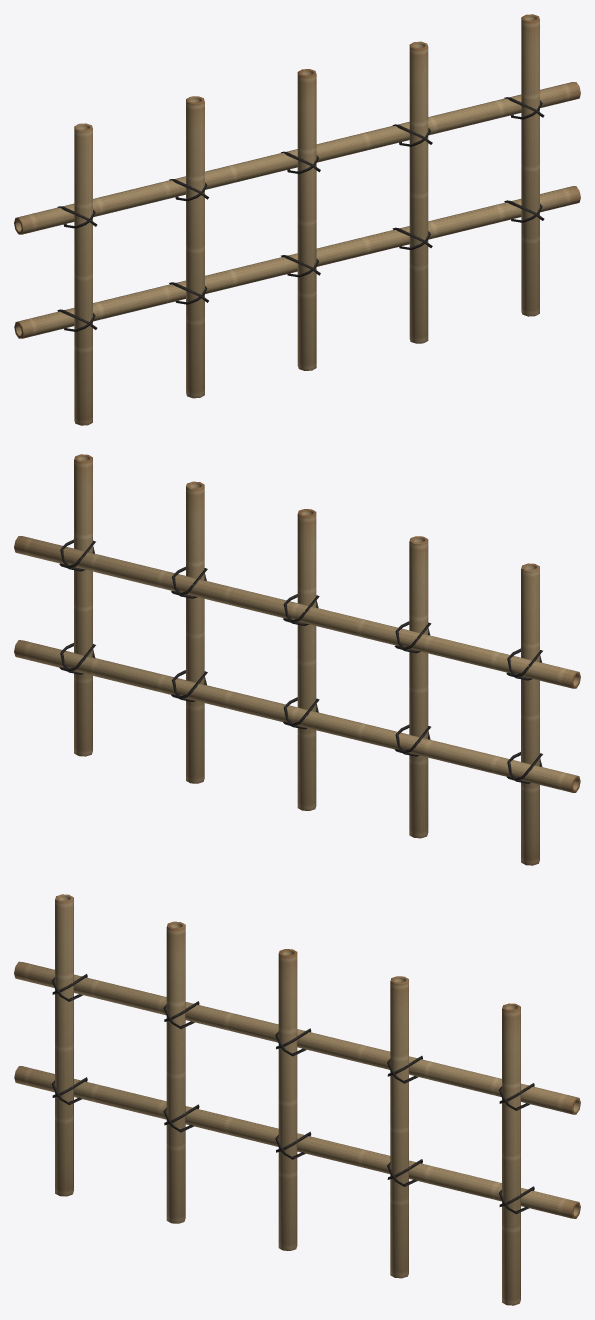
The model's file is SmallFence2.fbx.
3 renders of one model, top to bottom at view 1: azimuth 30°, elevation 25°; view 2: azimuth 150°, elevation 25°; view 3: azimuth 330°, elevation 25°, orthographic.
Parts seen in each view (by area): view 1: SmallFence2; view 2: SmallFence2; view 3: SmallFence2.
Part boxes in pixels (x1,y1,x2,y2): SmallFence2: (14, 14, 580, 425); SmallFence2: (14, 454, 580, 865); SmallFence2: (14, 894, 580, 1305).
Size of the model in its own units: 1.5 by 0.7562 by 0.1081.
